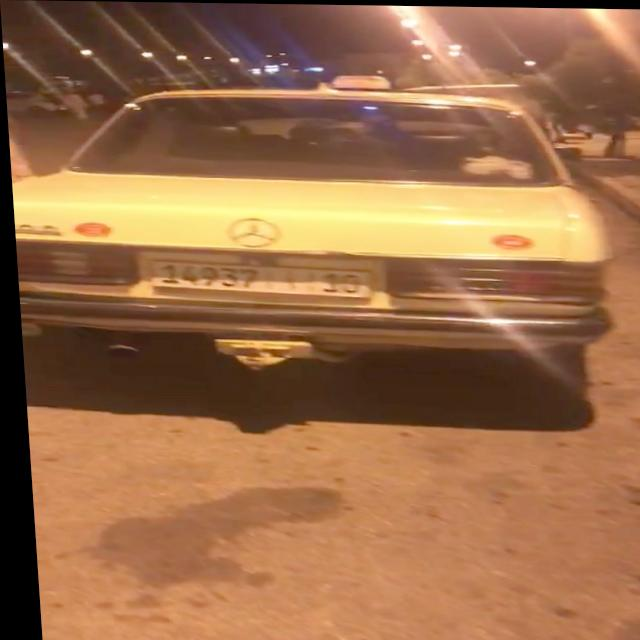License-Plate: (149, 261, 367, 297)
